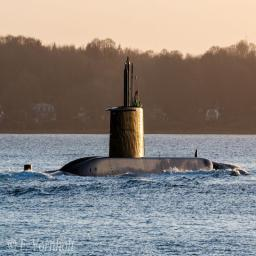submarine: (22, 50, 245, 182)
